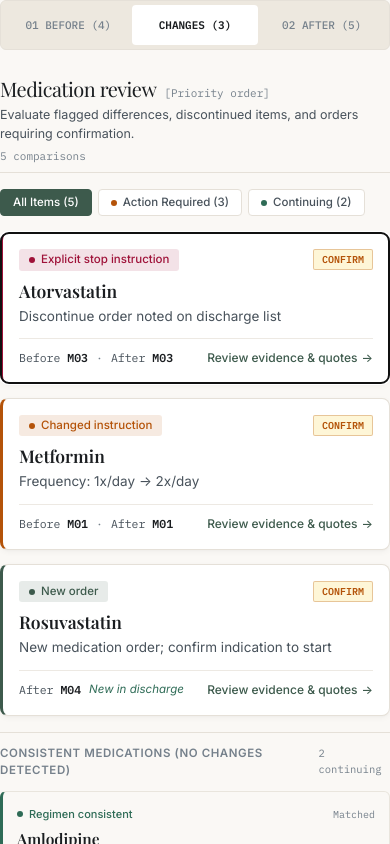
ReconciliationCanvas Component › mobile bottom sheet opens immediately with dark scrim and returns focus on close
Note: Click card to open sheet
Click the button "Atorvastatin" at {"x": 195, "y": 308}, box top-left (0, 232), bottom-right (389, 384)
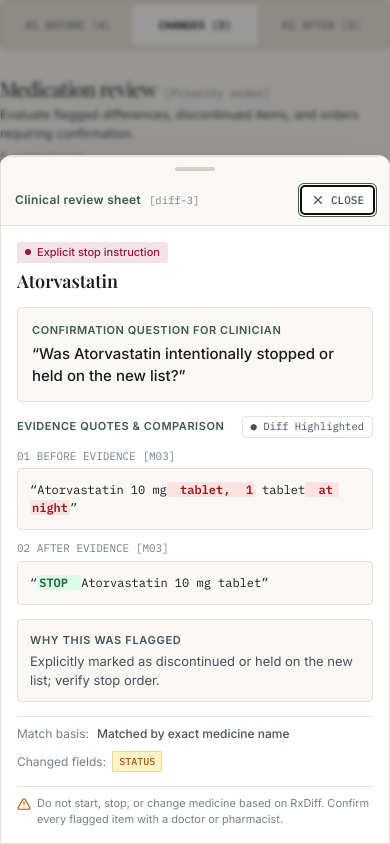
Result: the dialog with test id "mobile-evidence-sheet" is shown
Result: the element with test id "mobile-sheet-scrim" is shown
Result: the button "Close" is shown
Note: Close sheet
Click the button "Close" at {"x": 338, "y": 200}, box top-left (300, 185), bottom-right (375, 215)
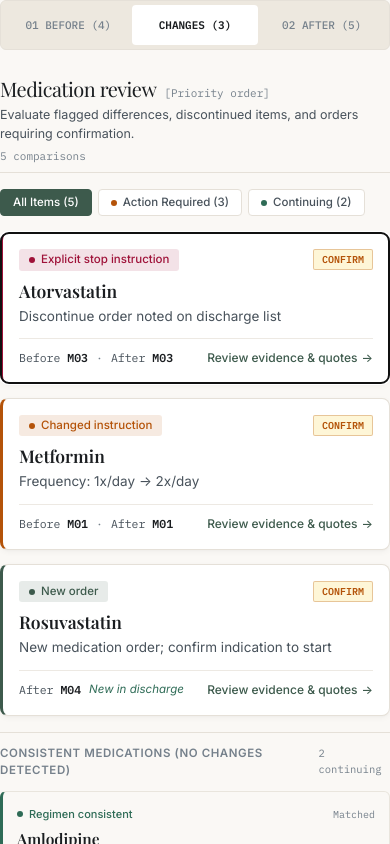
Result: the dialog with test id "mobile-evidence-sheet" is gone
Result: the element with test id "mobile-sheet-scrim" is gone
